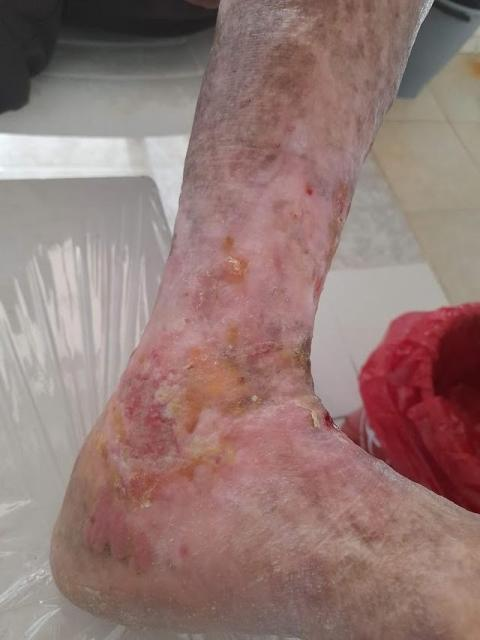wound: (92, 160, 349, 575)
